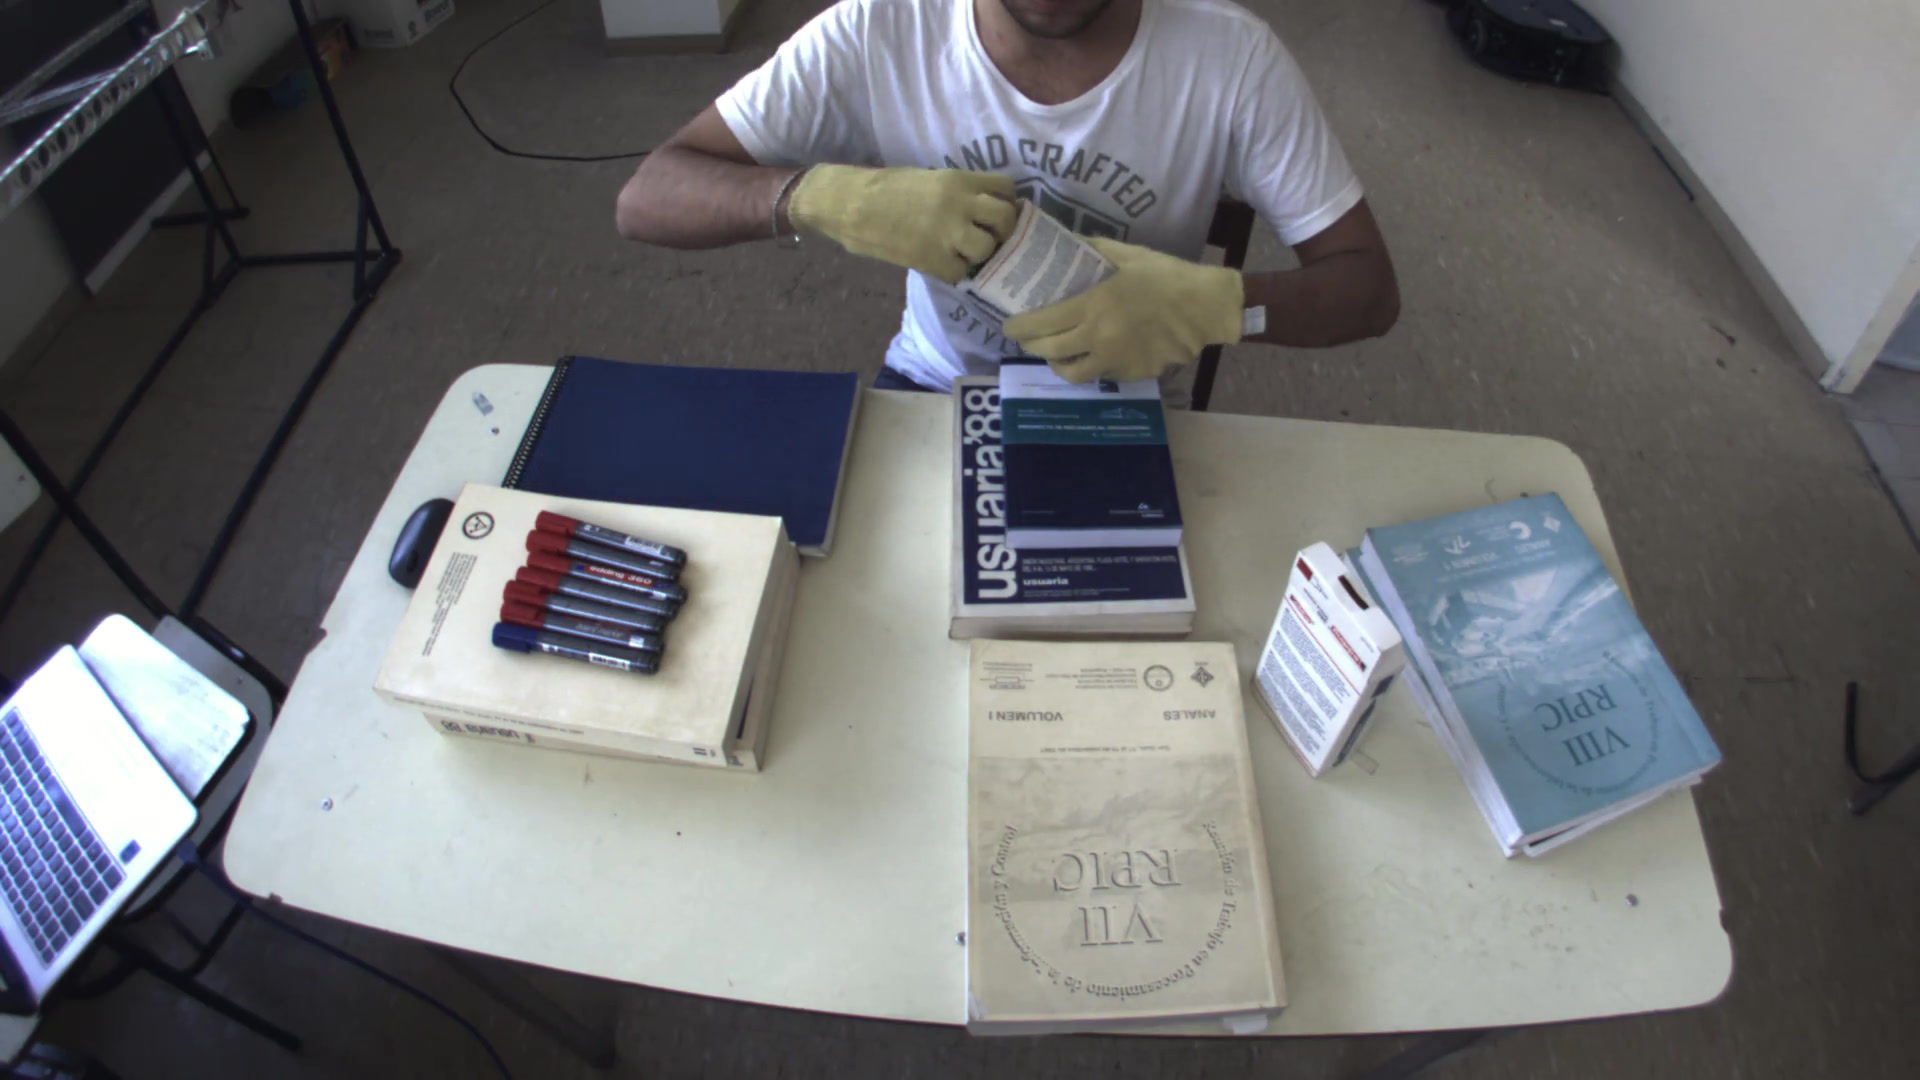hand: (989, 220, 1266, 390), (778, 148, 1036, 281)
